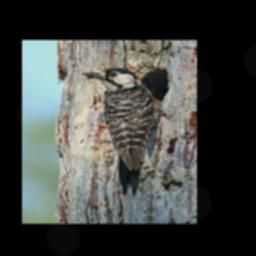Woodpecker: (80, 67, 174, 199)
